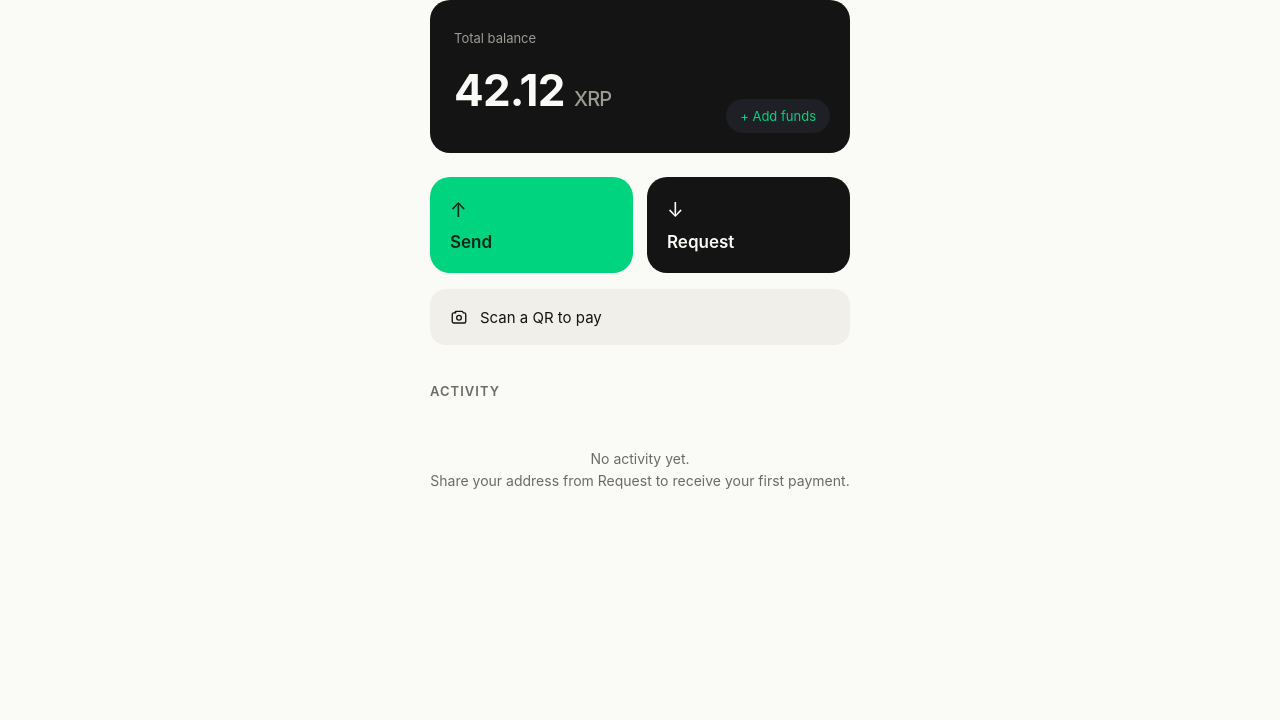
Scenario: Home — with wallet › + Add funds button opens the AddFunds modal
The width and height of the screenshot is (1280, 720).
Click the button "+ Add funds": [778, 116] box [726,99,830,133]
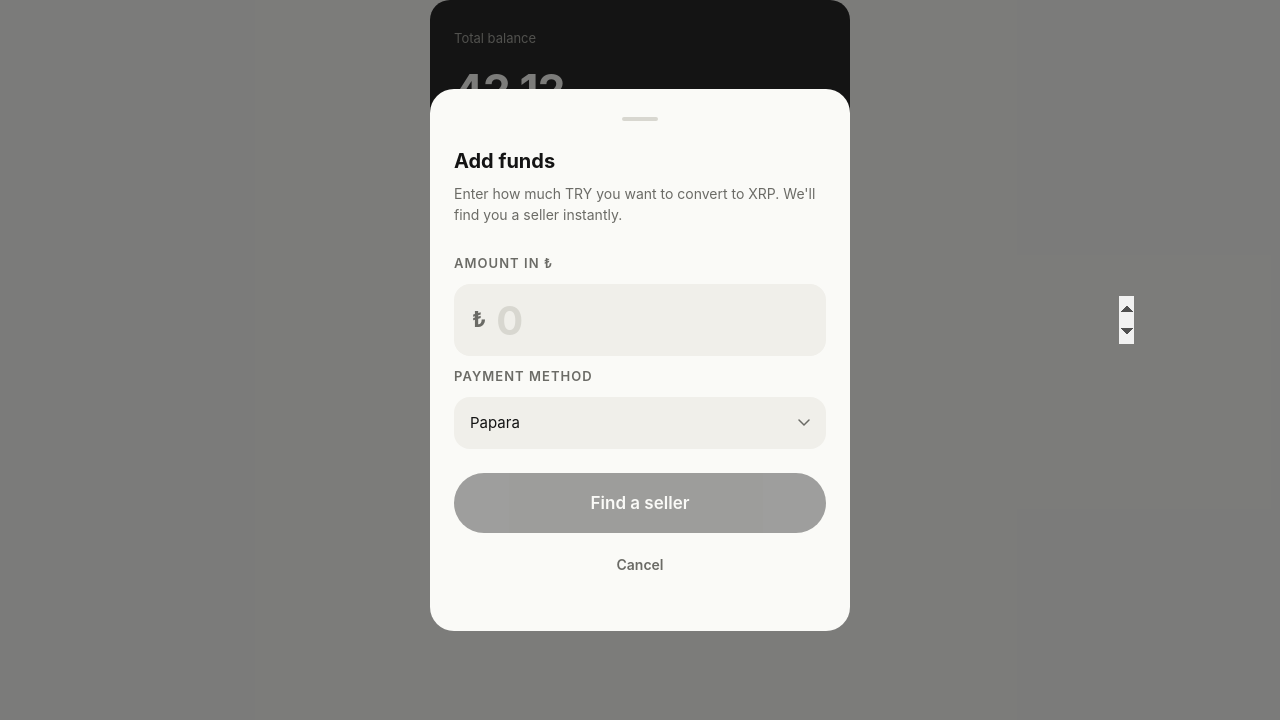
Result: the heading "Add funds" is shown at [454,149,555,173]
Result: the button "Find a seller" is shown at [454,473,826,533]
